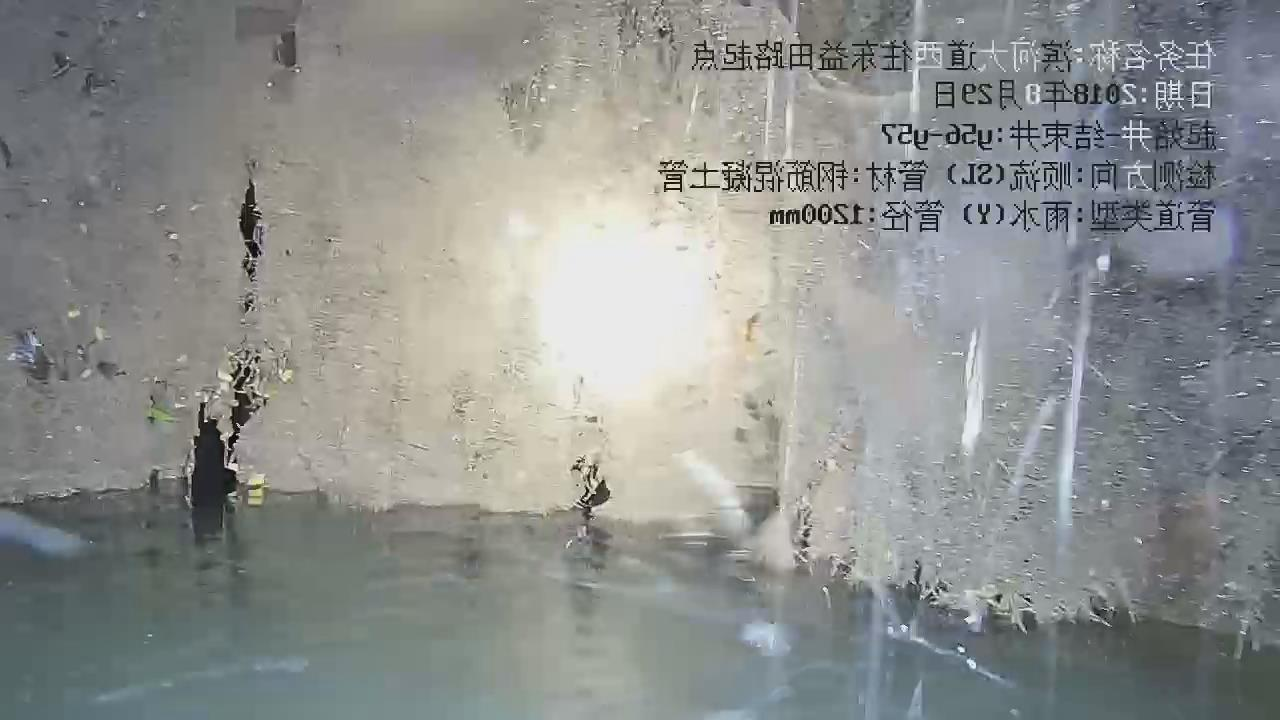SG: (1, 0, 1280, 629)
